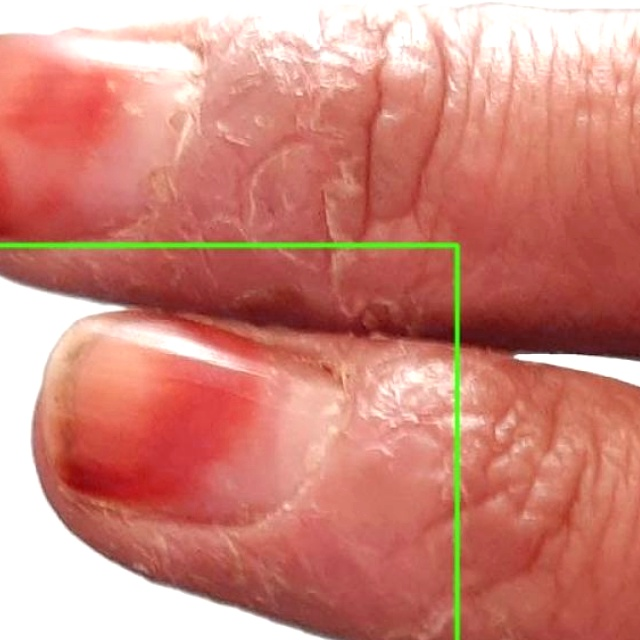Contact Dermatitis: (0, 245, 457, 639)
